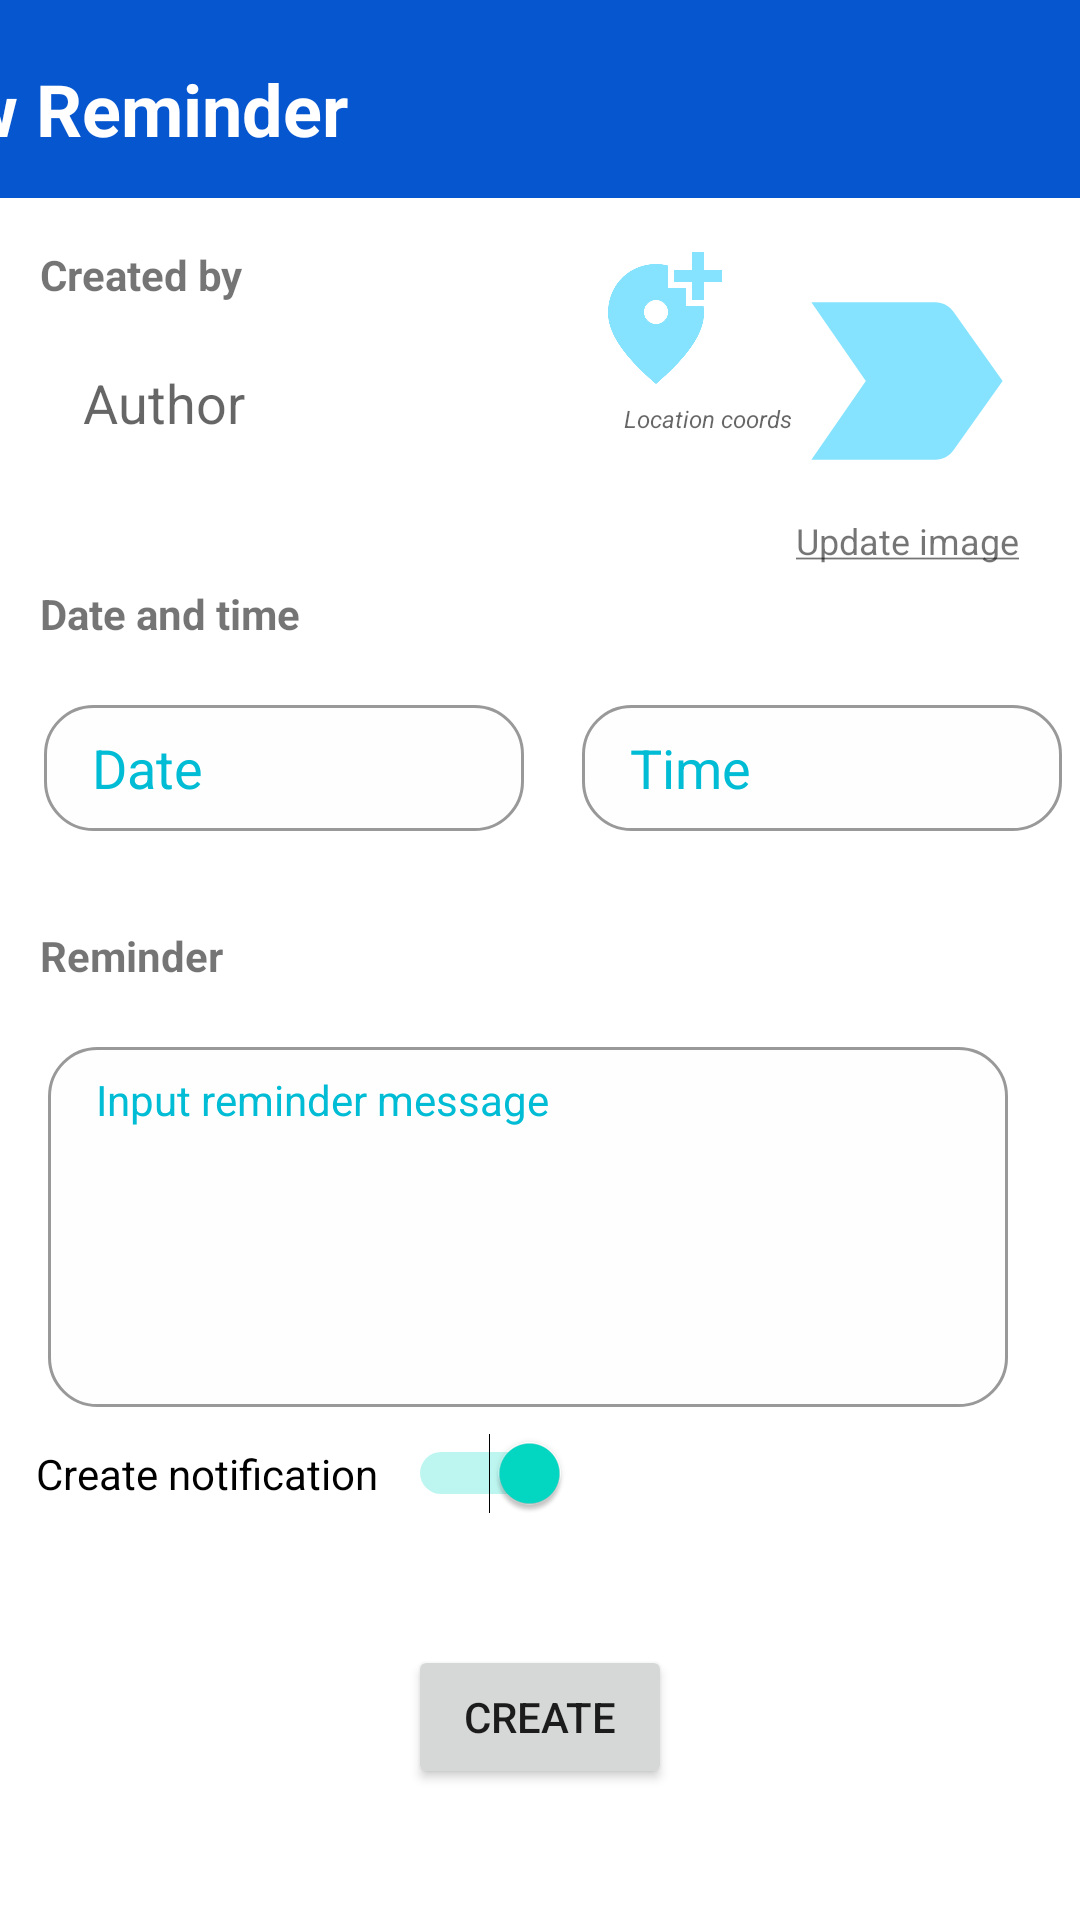

Screen size 1080 x 1920. Icon name, then its box in pixels as {"x1": x1, "y1": y1, "x2": x2, "y2": y2}:
Add map location: {"x1": 608, "y1": 252, "x2": 722, "y2": 384}
label important: {"x1": 772, "y1": 302, "x2": 1003, "y2": 460}
